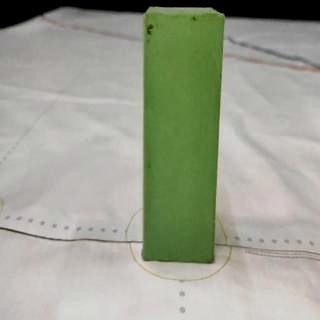greenbox: (135, 7, 227, 270)
